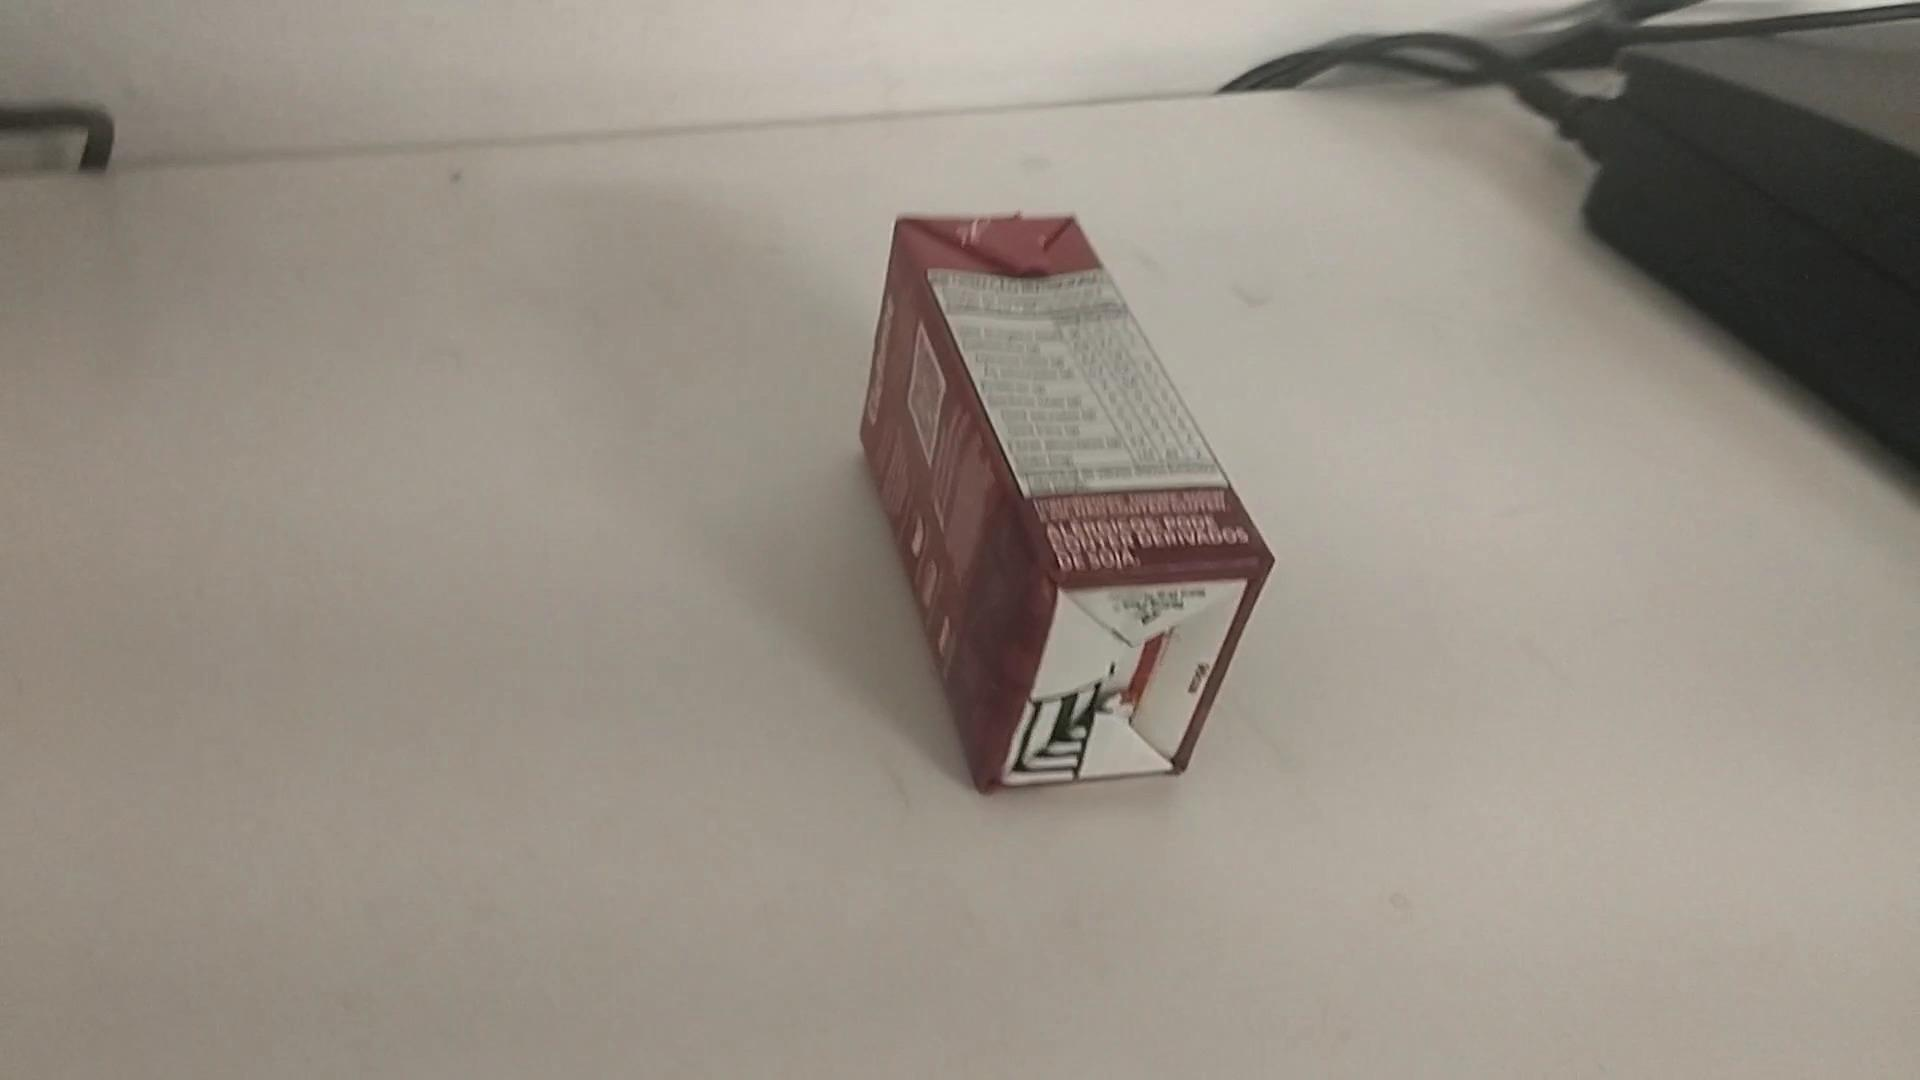tomate: (861, 208, 1279, 798)
